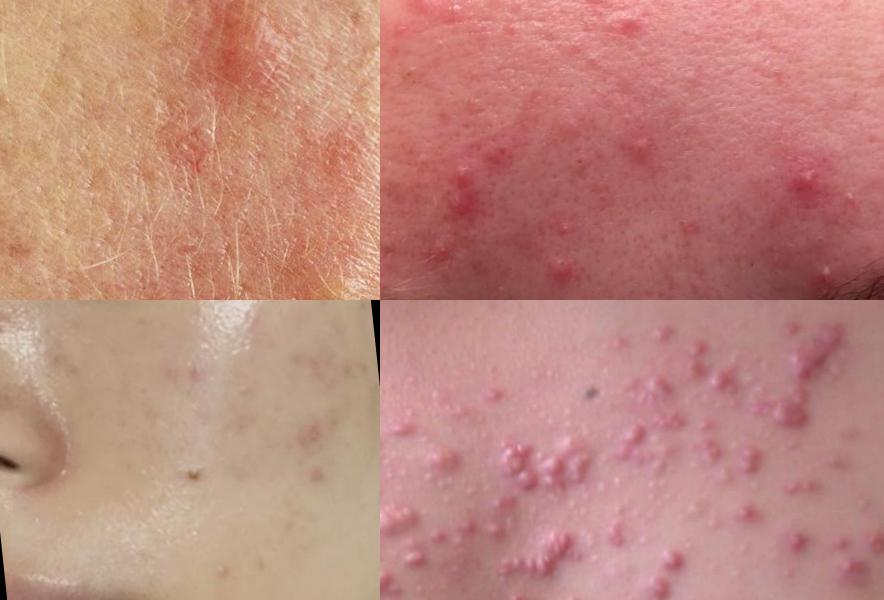acne_scars: (281, 417, 352, 496), (276, 340, 352, 392)
keloid: (489, 525, 586, 584), (786, 320, 853, 384), (495, 436, 541, 495), (381, 492, 428, 543), (761, 391, 815, 435)
papular: (202, 1, 296, 122), (766, 153, 837, 221), (292, 247, 381, 301), (421, 167, 488, 234), (608, 129, 662, 190), (531, 245, 579, 301), (402, 238, 465, 277), (555, 146, 600, 188), (473, 150, 525, 185), (581, 42, 622, 83), (850, 517, 884, 560), (384, 1, 444, 21), (655, 542, 691, 574), (644, 570, 678, 600), (1, 301, 21, 348), (255, 301, 310, 313)
purulent: (805, 258, 844, 296), (840, 180, 867, 226)
sebo-crystan-conglo: (633, 314, 741, 408), (608, 407, 690, 466), (534, 430, 599, 496), (694, 433, 766, 488), (471, 487, 526, 545), (420, 439, 473, 488)
whitehead: (193, 546, 246, 598), (601, 466, 637, 508), (221, 376, 253, 414)
